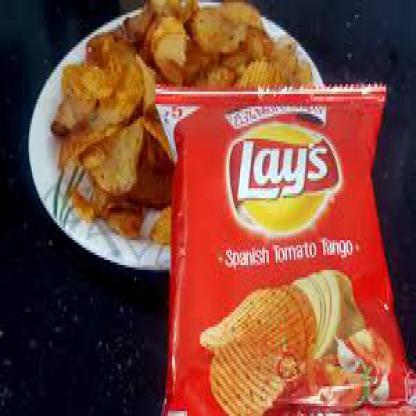tangy_tomato: (154, 84, 415, 414)
